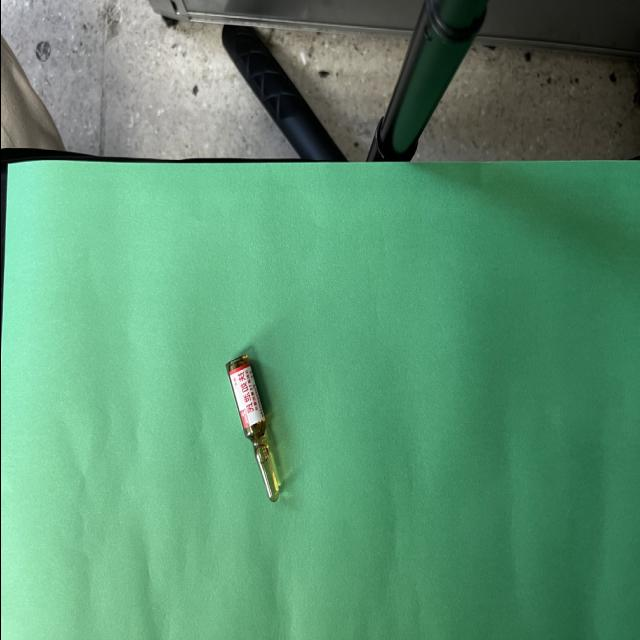Ampoules: (225, 355, 278, 502)
